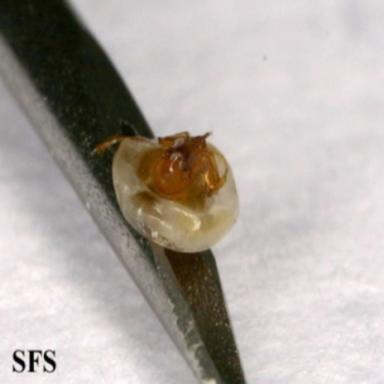Tungiasis: (113, 132, 239, 253)
